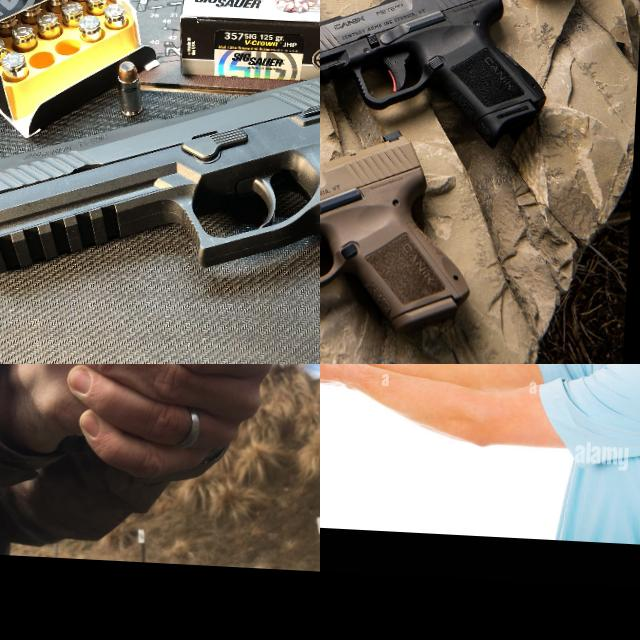handgun: (0, 45, 320, 364), (320, 113, 481, 345), (320, 0, 553, 153), (68, 364, 320, 469), (320, 0, 589, 96), (320, 364, 378, 392)
